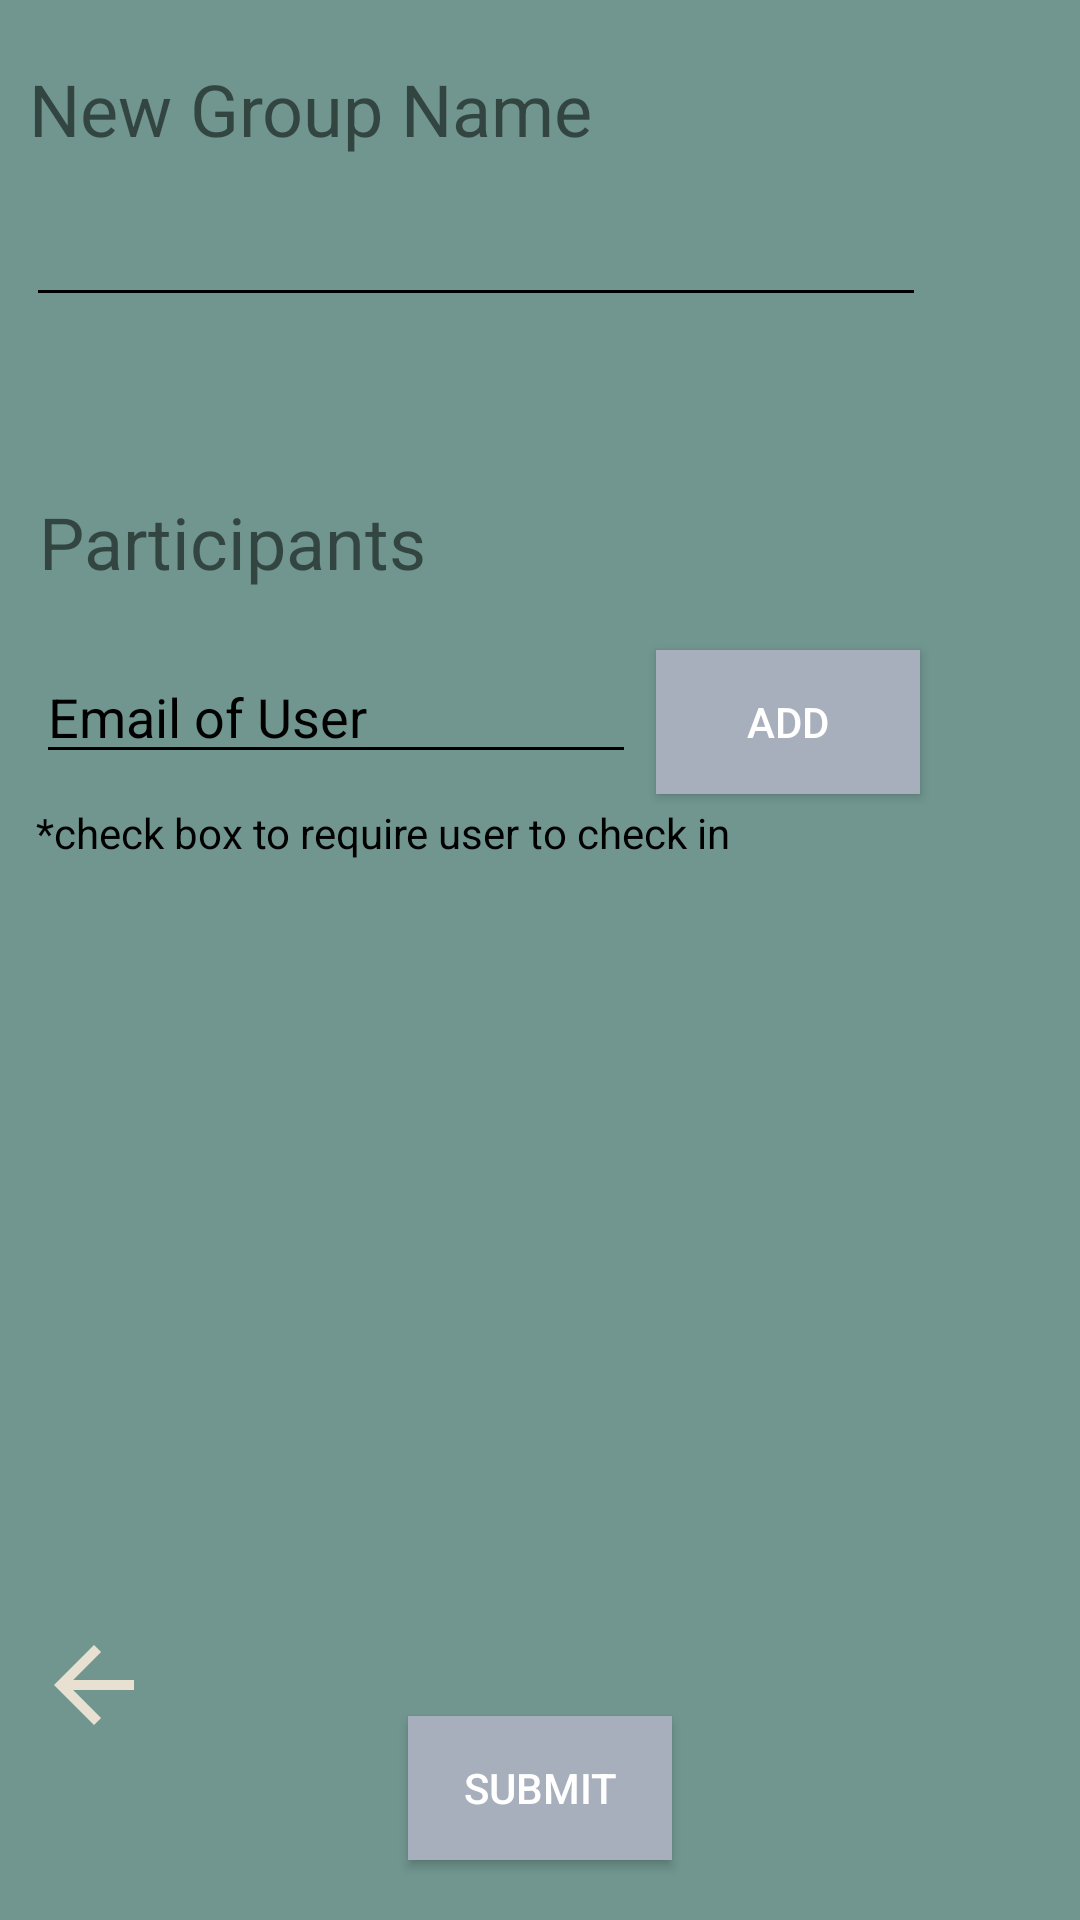

Screen size 1080*1920. Icon name, then its center in pixels as [x,y]:
arrow back: [94,1685]
